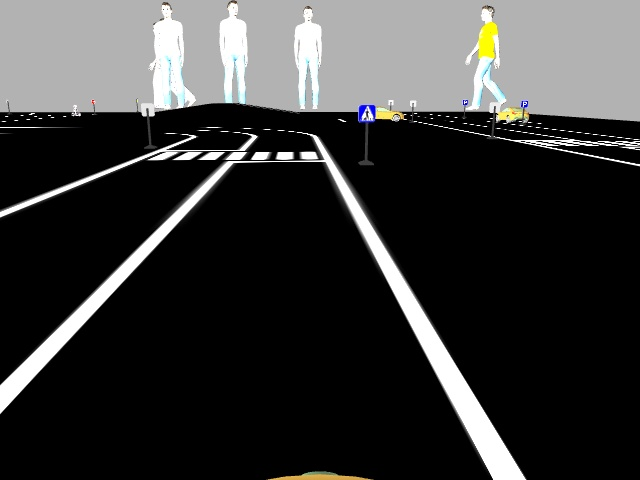Crosswalk: (357, 104, 375, 122)
Parking: (520, 99, 528, 107)
